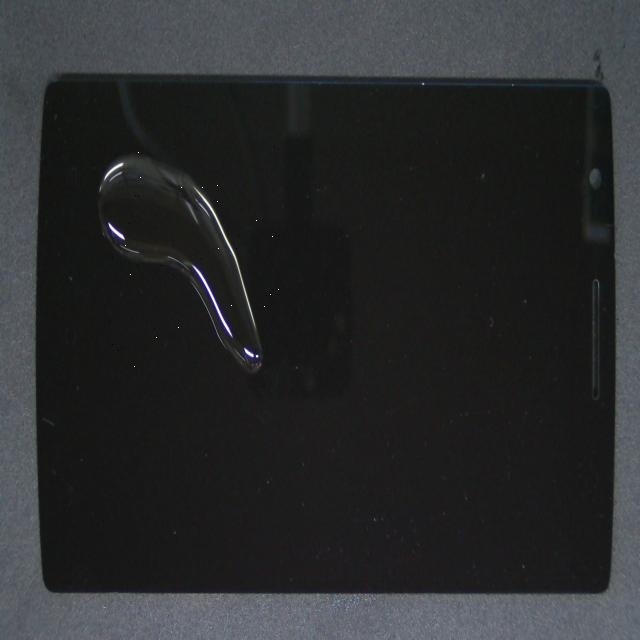oil: (110, 97, 264, 243)
